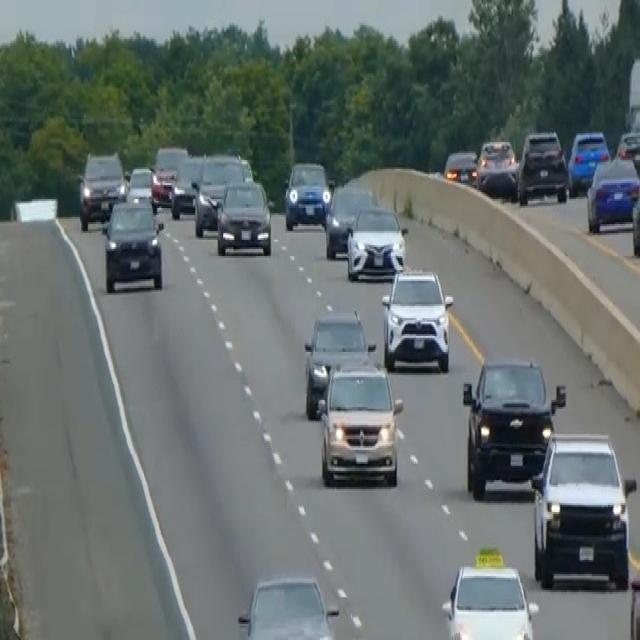car: (529, 428, 636, 590), (440, 546, 539, 638), (302, 308, 376, 418), (380, 265, 454, 373), (236, 572, 340, 638), (101, 194, 164, 293), (345, 201, 407, 281), (192, 151, 246, 237), (216, 178, 272, 256), (586, 153, 639, 233), (77, 148, 126, 230), (324, 182, 374, 260), (517, 128, 568, 204), (283, 158, 331, 231), (567, 128, 610, 194), (475, 137, 518, 197), (151, 143, 188, 205), (169, 153, 202, 219), (126, 164, 160, 212), (443, 148, 478, 186), (616, 128, 639, 176), (631, 167, 639, 260), (628, 571, 639, 638)
jeep: (461, 354, 565, 499)
minivan: (315, 355, 404, 489)
